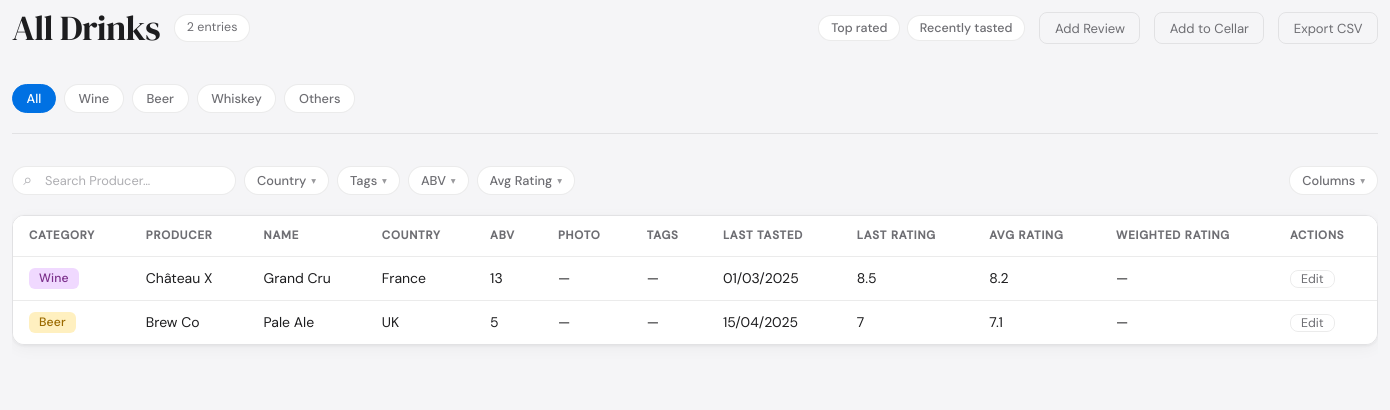
Avg Rating chip appears when Avg Rating filter active, with bounded max fallback
This screenshot has width=1390, height=410.
Expected: the text "Grand Cru" is shown, [248,256,366,300]
Click the button with test id "filter-avgRating" at {"x": 526, "y": 180}, box [476,166,575,194]
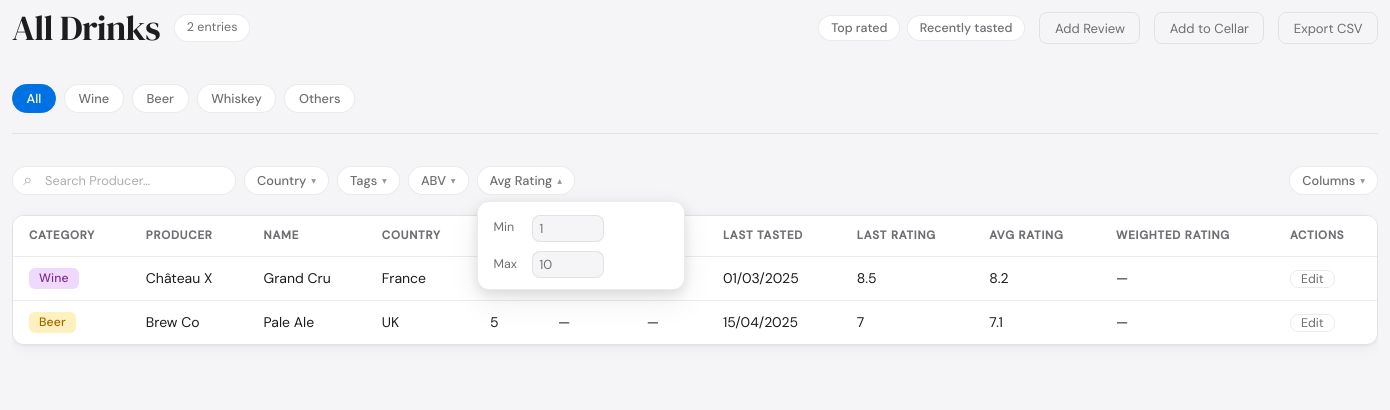
Type "7" into the number field with test id "avgRating-min" at {"x": 568, "y": 228}, box [532,215,604,242]
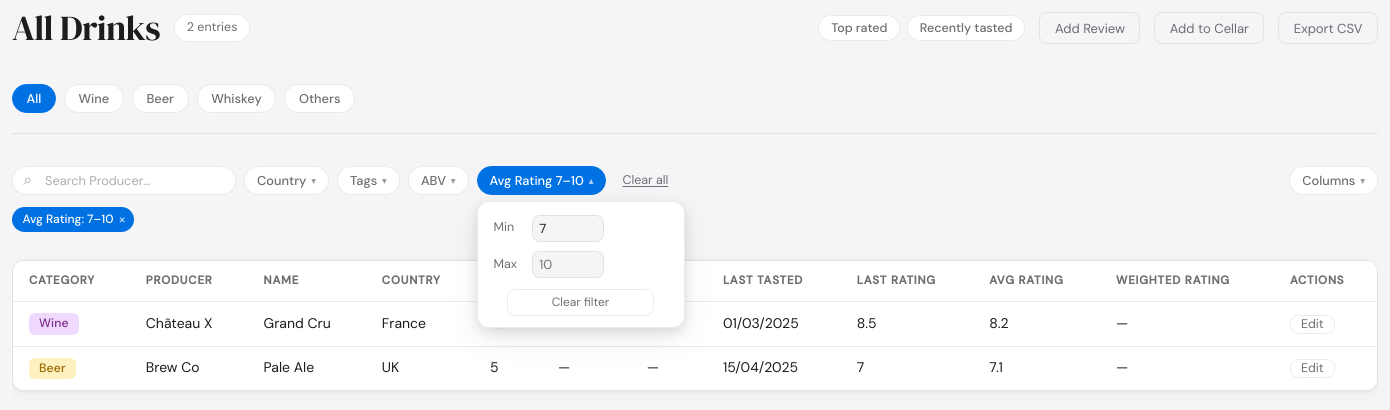
Result: the text "Avg Rating: 7–10" is shown at [12,206,134,232]
